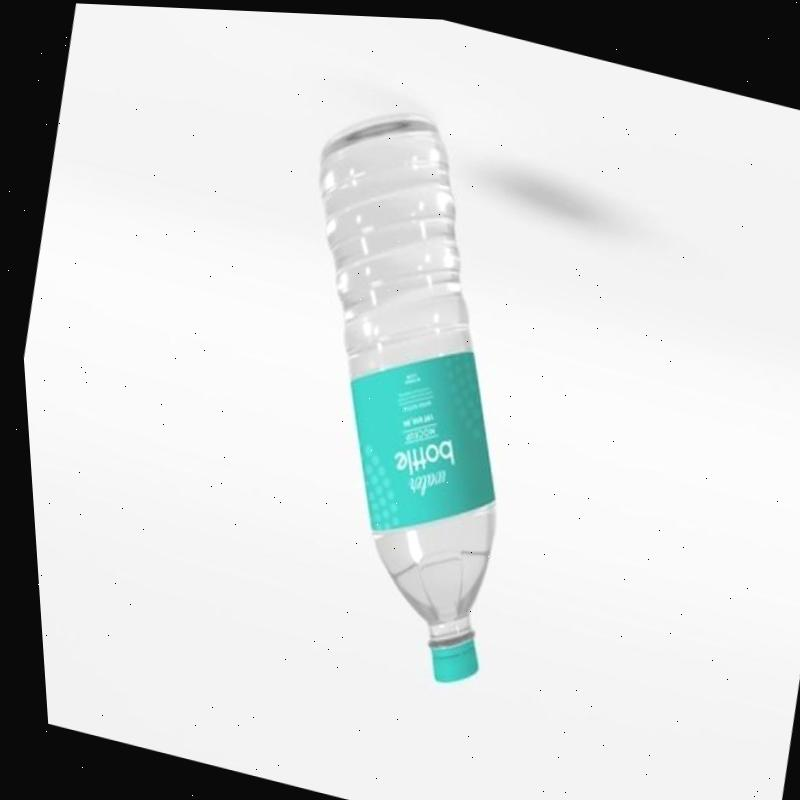botella: (212, 80, 586, 690)
